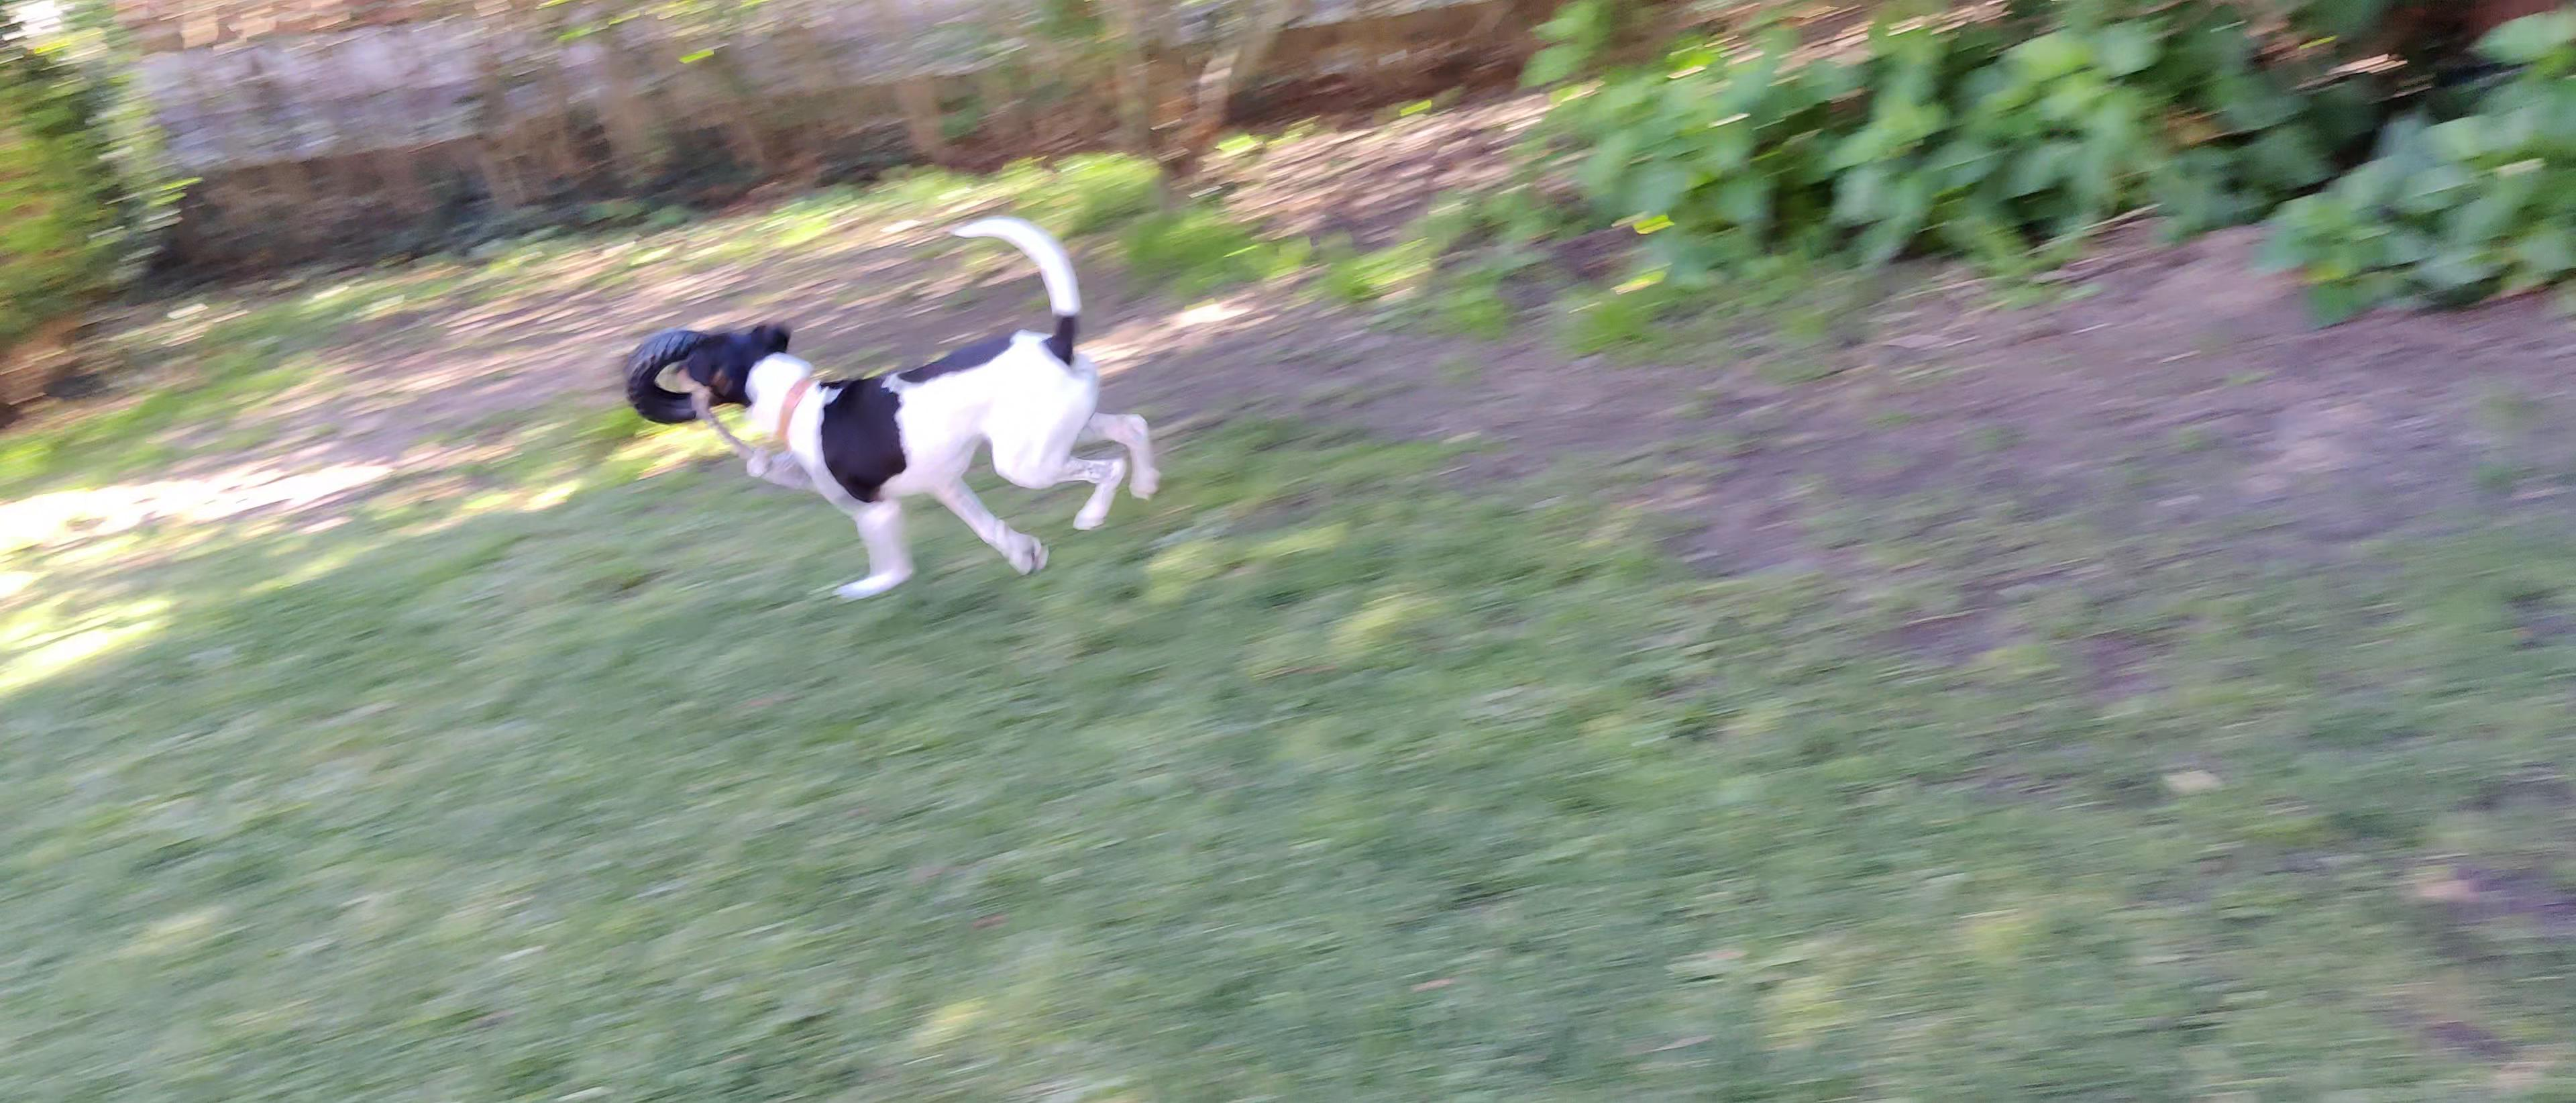Dog: (660, 202, 1184, 615)
